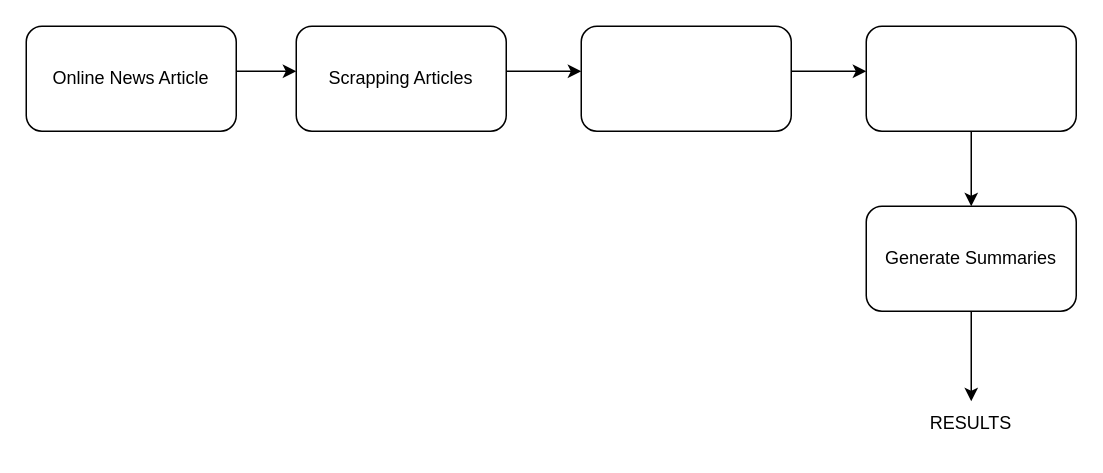
This 1103x473 diagram has some shape labels left out. Here are the shapes that lost their labels. From the top down, the box of each, then its label:
(580, 25, 791, 131): Parsing Scraped Articles
(865, 25, 1076, 131): Preparing Prompt
